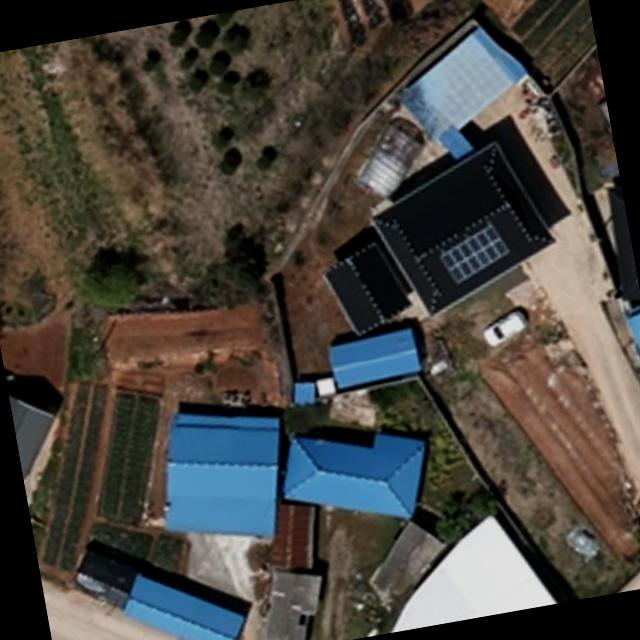solar: (434, 219, 518, 289)
